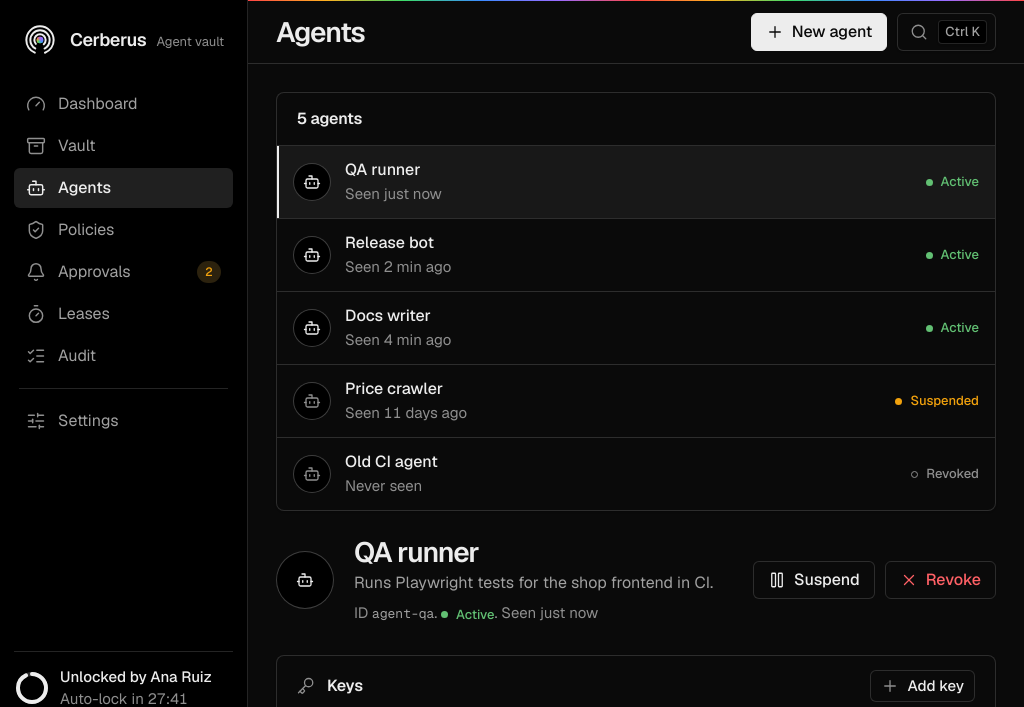
Test: Agents screen › suspends and resumes
This screenshot has width=1024, height=707.
Click the button "Suspend".
click(814, 580)  # box [753,561,875,599]
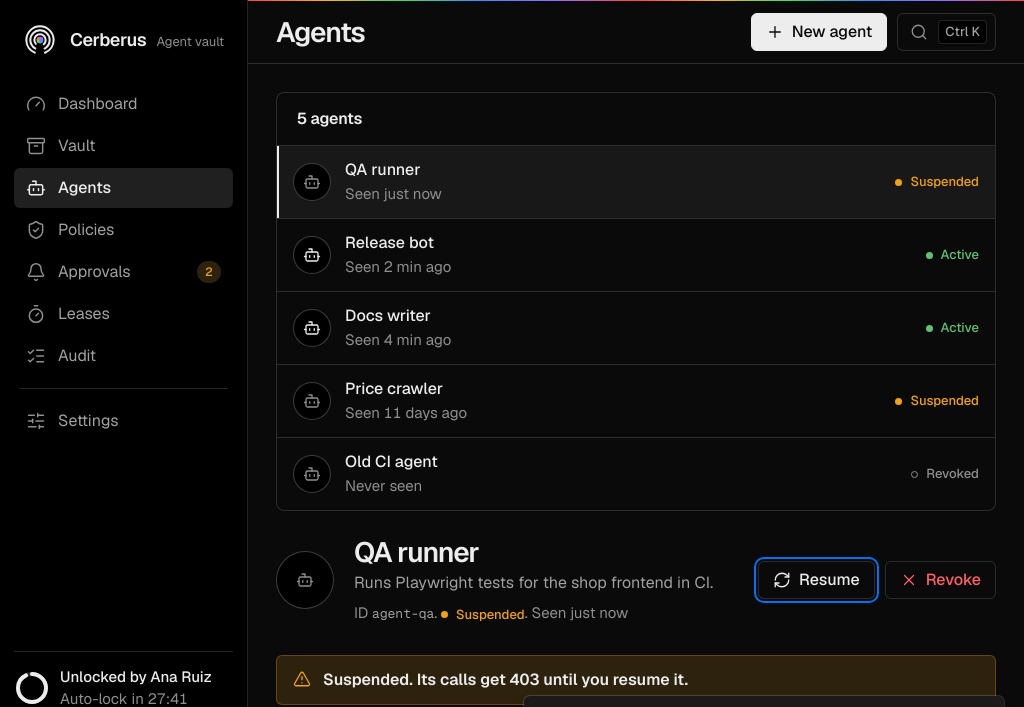
Now the button "Resume" is shown, box [758,561,875,599]
